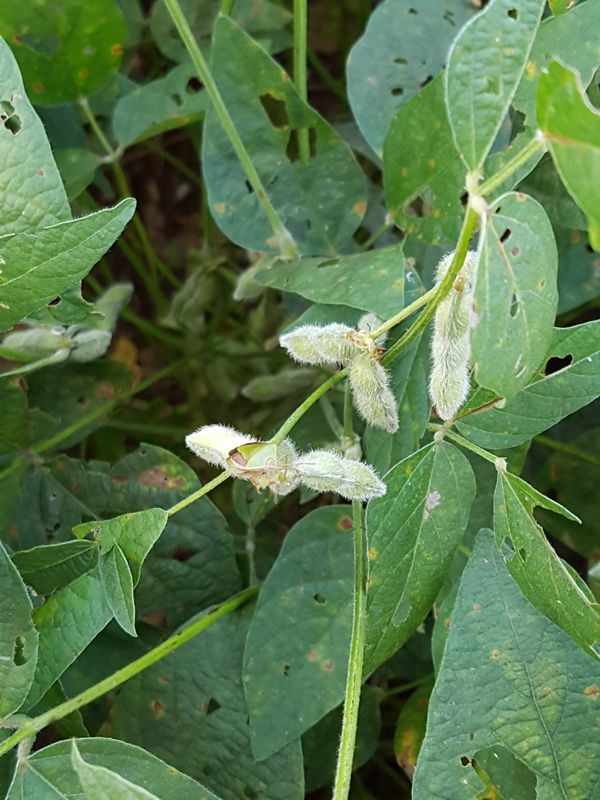Edessa_meditabunda: (215, 431, 309, 504)
